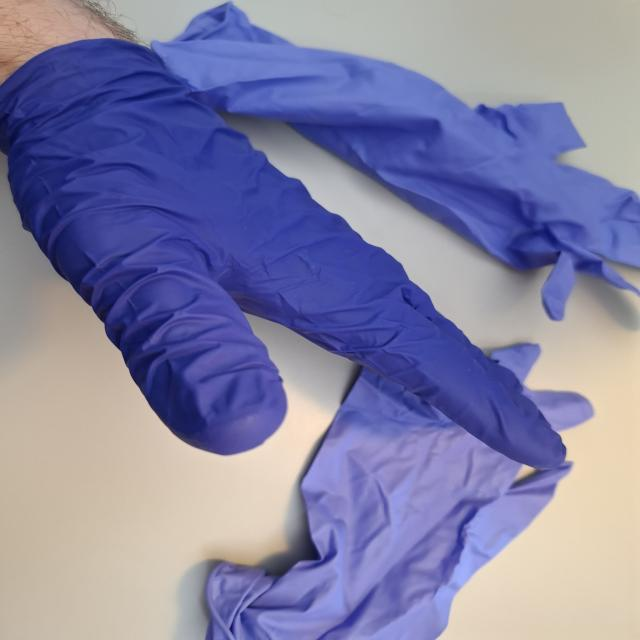glove_on: (0, 32, 570, 473)
